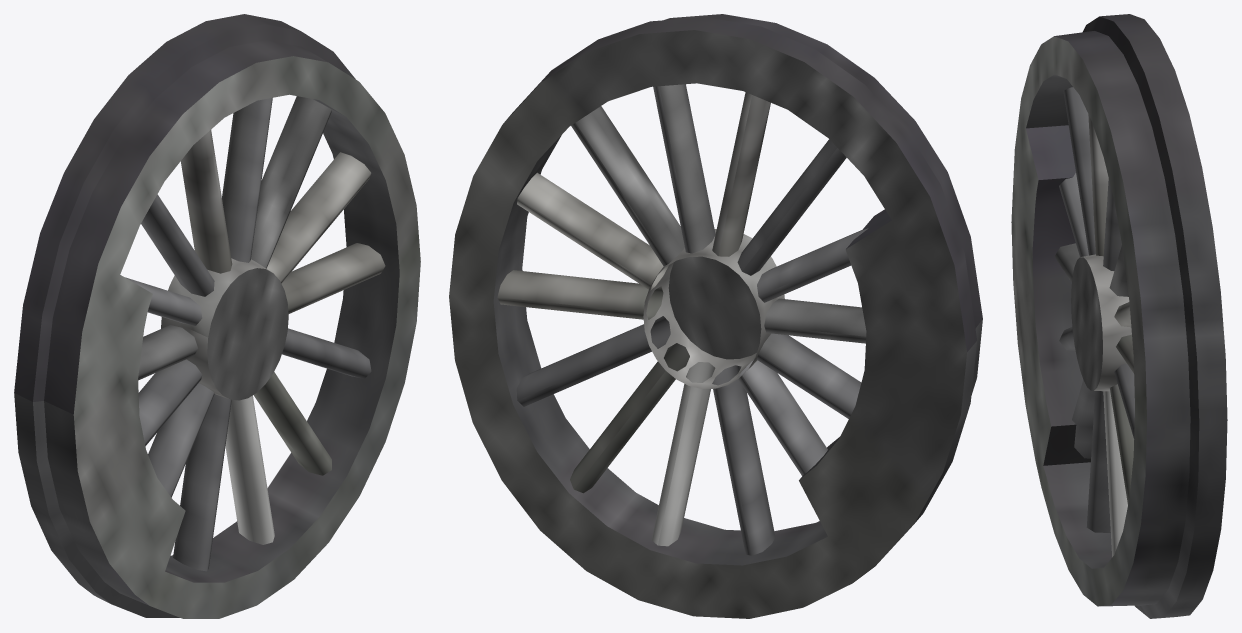
The model's file is LlantaDer3.obj.
3 renders of one model, left to right at view 1: azimuth 30°, elevation 25°; view 2: azimuth 150°, elevation 25°; view 3: azimuth 270°, elevation 25°, orthographic. The views are drawn at different scales.
Parts seen in each view (by area): view 1: LlantaDer3; view 2: LlantaDer3; view 3: LlantaDer3.
Part boxes in pixels (box(x1,y1,x2,y2)): LlantaDer3: box(14, 14, 420, 618); LlantaDer3: box(449, 14, 982, 618); LlantaDer3: box(1011, 14, 1227, 618).
Bounding box in the file's own units: 0.3157 × 0.3939 × 0.1363.
1 material, 1 textured.
